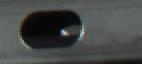holes: (17, 8, 84, 52)
